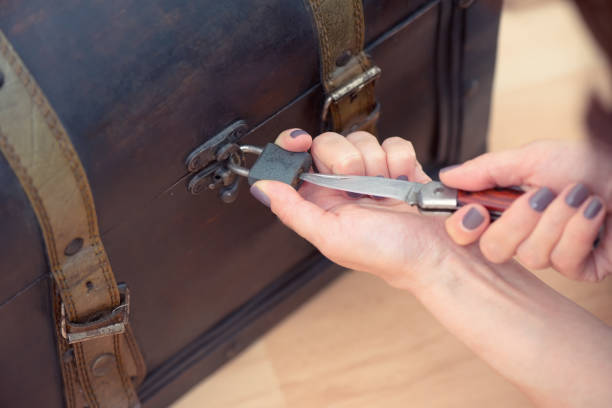knife: (300, 171, 528, 214)
